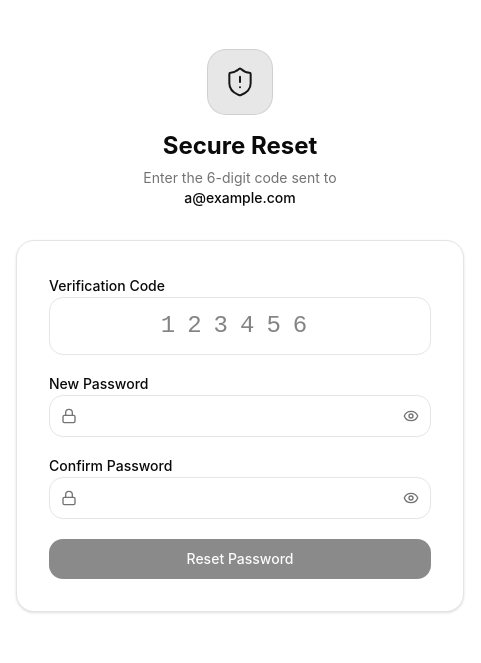
it: authentication and password forms › rejects non-six-digit OTP and mismatched reset passwords
Type "12ab" into the field labelled "Verification Code" at (240, 326), box [49,297,431,355]
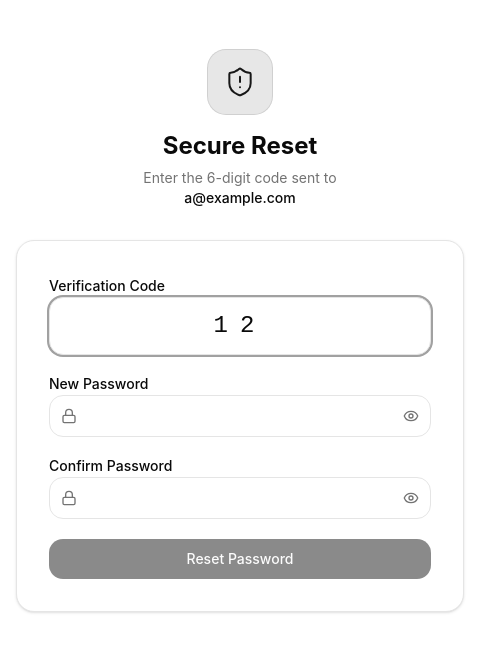
Type "Strong1!" into the password field labelled "New Password" at (240, 416), box [49,395,431,437]
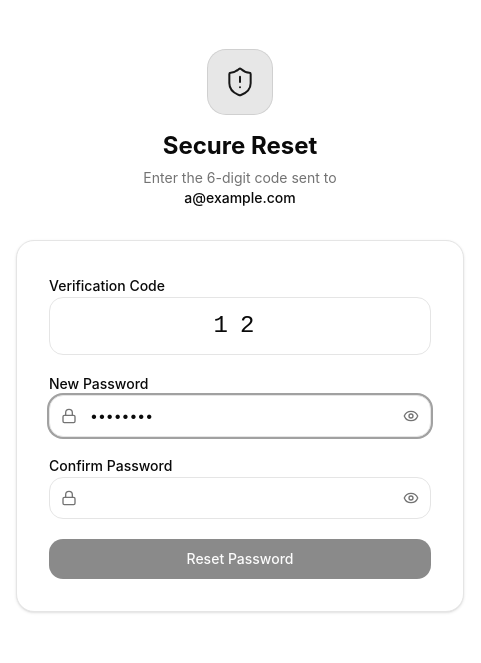
Type "Different1!" into the password field labelled "Confirm Password" at (240, 498), box [49,477,431,519]
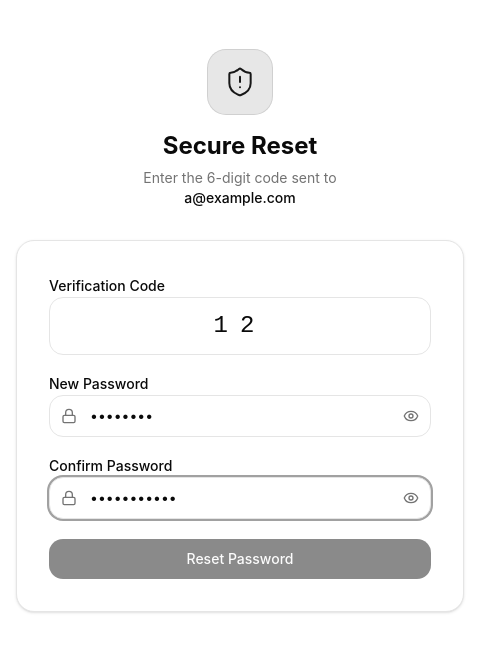
Check: the button "Reset Password" is disabled, box [49,539,431,579]
Replace the text in the field labelled "Verification Code" with "123456" at (240, 326), box [49,297,431,355]
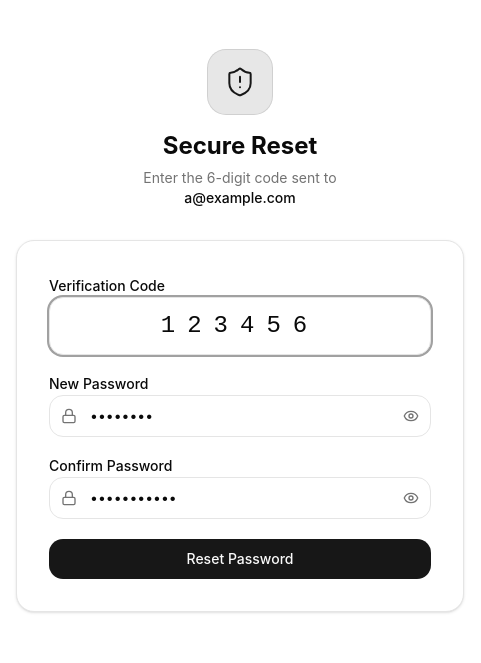
Click the button "Reset Password" at (240, 559), box [49,539,431,579]
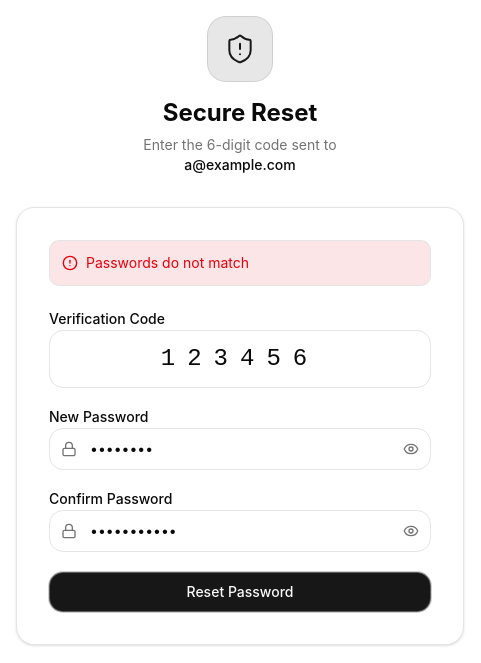
Check: the text "Passwords do not match" is shown, box [86,253,249,273]
